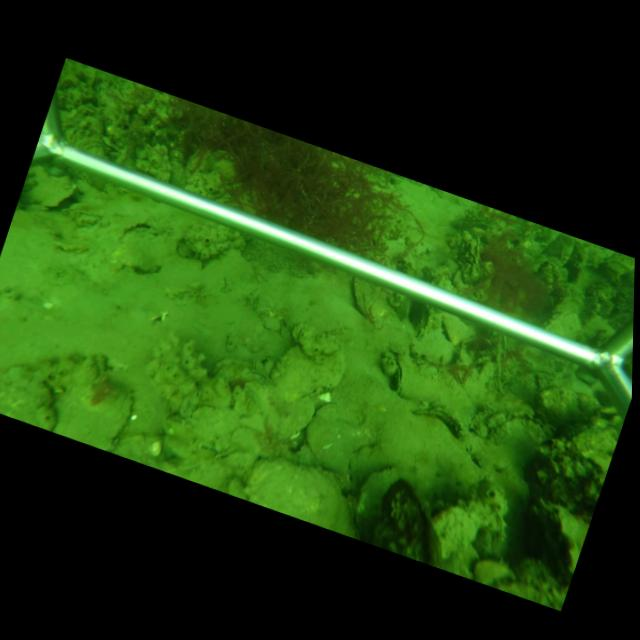Oyster-Closed: (526, 497, 588, 580), (270, 344, 348, 404), (353, 465, 402, 524), (108, 225, 168, 272), (348, 275, 392, 326), (410, 403, 464, 443), (540, 311, 587, 343), (412, 302, 432, 341), (387, 350, 404, 395)
Oyster-Indeterminate: (243, 454, 358, 538), (50, 354, 137, 452), (21, 164, 79, 210)
Oyster-Open: (488, 406, 553, 447)
